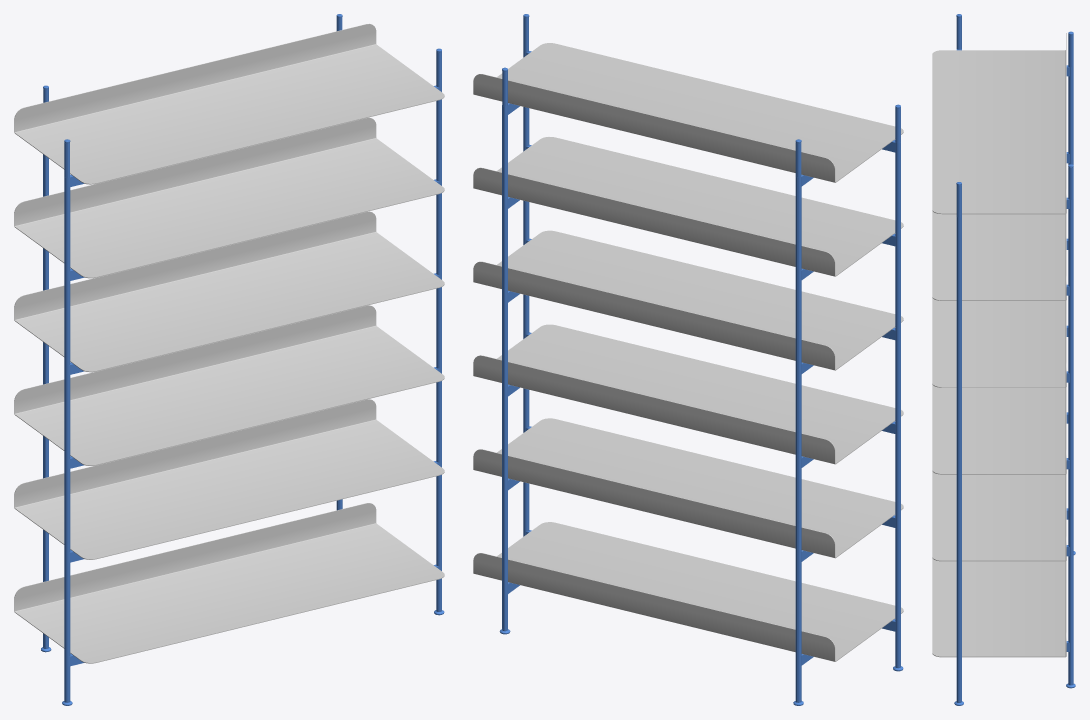
File: Compile Shelving System_V4.obj
3 views of the same model, side by side, from view 1: azimuth 30°, elevation 25°; view 2: azimuth 150°, elevation 25°; view 3: azimuth 270°, elevation 25° (orthographic). The views are drawn at different scales.
Visible parts, largest first — view 1: Block_Compile_Shelving_System___Shelve, Block_Compile_Shelving_System_4___Frame; view 2: Block_Compile_Shelving_System___Shelve, Block_Compile_Shelving_System_4___Frame; view 3: Block_Compile_Shelving_System___Shelve, Block_Compile_Shelving_System_4___Frame.
Boxes of the visible parts, left/top/right/bottom form: Block_Compile_Shelving_System___Shelve: left=14, top=23, right=444, bottom=663; Block_Compile_Shelving_System_4___Frame: left=41, top=14, right=444, bottom=705; Block_Compile_Shelving_System___Shelve: left=473, top=43, right=903, bottom=661; Block_Compile_Shelving_System_4___Frame: left=499, top=14, right=903, bottom=705; Block_Compile_Shelving_System___Shelve: left=932, top=33, right=1066, bottom=657; Block_Compile_Shelving_System_4___Frame: left=954, top=14, right=1075, bottom=705.
Size of the model in its own units: 1211 by 1712 by 427.
